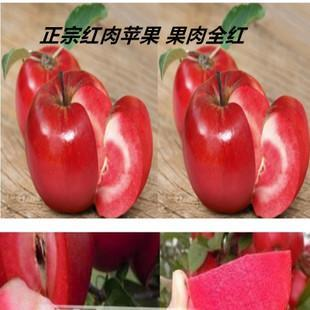apple: (181, 70, 270, 215), (24, 70, 113, 214), (93, 95, 155, 217), (252, 93, 309, 219)
